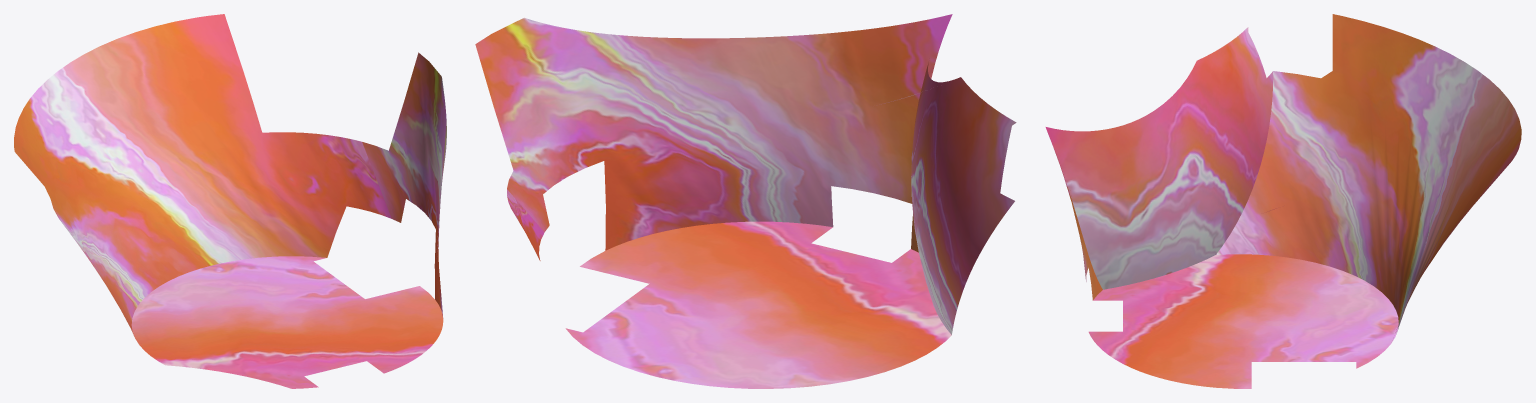
3 renders of one model, left to right at view 1: azimuth 30°, elevation 25°; view 2: azimuth 150°, elevation 25°; view 3: azimuth 270°, elevation 25°, orthographic. The views are drawn at different scales.
Visible parts, largest first — view 1: Solids; view 2: Solids; view 3: Solids.
Boxes of the visible parts, x1=… form: Solids: x1=14, y1=14, x2=446, y2=388; Solids: x1=475, y1=14, x2=1016, y2=388; Solids: x1=1045, y1=14, x2=1521, y2=388.
Size of what is drawn, in the model's own units: 24.25 by 11.08 by 24.48.
1 material, 1 textured.
